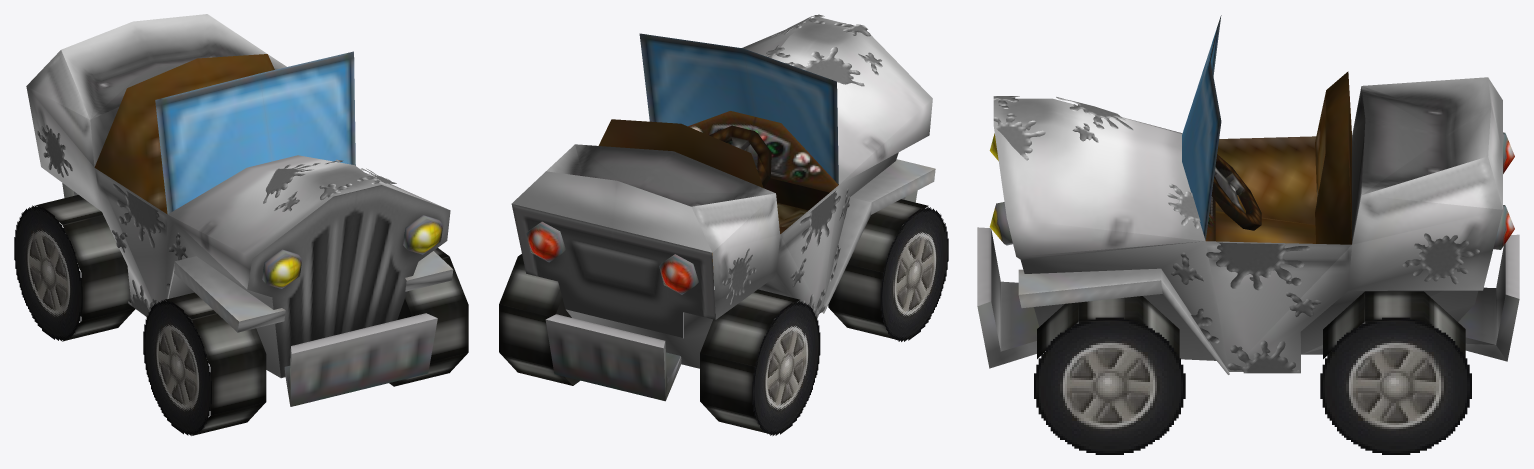
File: kart_2.glb
3 views of the same model, side by side, from view 1: azimuth 30°, elevation 25°; view 2: azimuth 150°, elevation 25°; view 3: azimuth 270°, elevation 25° (orthographic). The views are drawn at different scales.
Parts seen in each view (by area): view 1: polySurface1, windshield, frontEndPanel, bumperFront, seat, rightFrontWheelRim, rightRearWheelRim, rightFrontWheel, rightRearWheel, leftFrontWheel, polySurface2, rightSideDecal (+4 smaller); view 2: polySurface1, windshield, backendPanel, bumperRear, rightRearWheel, rightRearWheelRim, rightFrontWheelRim, seat, leftRearWheel, rightFrontWheel, polySurface2, dash (+5 smaller); view 3: polySurface1, leftFrontWheelRim, leftRearWheelRim, seat, leftSideDecal, polySurface3, bumperFront, windshield, bumperRear, leftRearWheel, leftFrontWheel, hoodDecal (+2 smaller).
Part boxes in pixels (left/top/right/bottom): polySurface1: left=26, top=14, right=446, bottom=377; windshield: left=155, top=51, right=355, bottom=213; frontEndPanel: left=247, top=185, right=450, bottom=378; bumperFront: left=284, top=313, right=437, bottom=406; seat: left=94, top=54, right=274, bottom=214; rightFrontWheelRim: left=143, top=300, right=211, bottom=435; rightRearWheelRim: left=14, top=205, right=82, bottom=341; rightFrontWheel: left=165, top=292, right=266, bottom=435; rightRearWheel: left=36, top=195, right=135, bottom=341; leftFrontWheel: left=389, top=248, right=468, bottom=386; polySurface2: left=167, top=256, right=285, bottom=332; rightSideDecal: left=37, top=125, right=187, bottom=316; polySurface1: left=512, top=17, right=932, bottom=368; windshield: left=639, top=33, right=838, bottom=184; backendPanel: left=511, top=204, right=715, bottom=337; bumperRear: left=545, top=314, right=681, bottom=401; rightRearWheel: left=700, top=289, right=799, bottom=433; rightRearWheelRim: left=752, top=301, right=820, bottom=435; rightFrontWheelRim: left=880, top=207, right=948, bottom=341; seat: left=598, top=119, right=829, bottom=268; leftRearWheel: left=499, top=254, right=579, bottom=385; rightFrontWheel: left=828, top=199, right=928, bottom=339; polySurface2: left=822, top=159, right=935, bottom=313; dash: left=688, top=111, right=838, bottom=192; polySurface1: left=993, top=77, right=1502, bottom=371; leftFrontWheelRim: left=1034, top=317, right=1185, bottom=454; leftRearWheelRim: left=1320, top=317, right=1471, bottom=454; seat: left=1215, top=71, right=1351, bottom=244; leftSideDecal: left=1171, top=233, right=1479, bottom=373; polySurface3: left=1018, top=268, right=1229, bottom=374; bumperFront: left=977, top=227, right=1039, bottom=368; windshield: left=1182, top=15, right=1221, bottom=240; bumperRear: left=1458, top=234, right=1519, bottom=361; leftRearWheel: left=1323, top=291, right=1465, bottom=358; leftFrontWheel: left=1037, top=296, right=1179, bottom=358; hoodDecal: left=993, top=96, right=1200, bottom=228.
Size of the model in its own units: 1.96 by 2.12 by 3.22.
8 materials, 8 textured.
